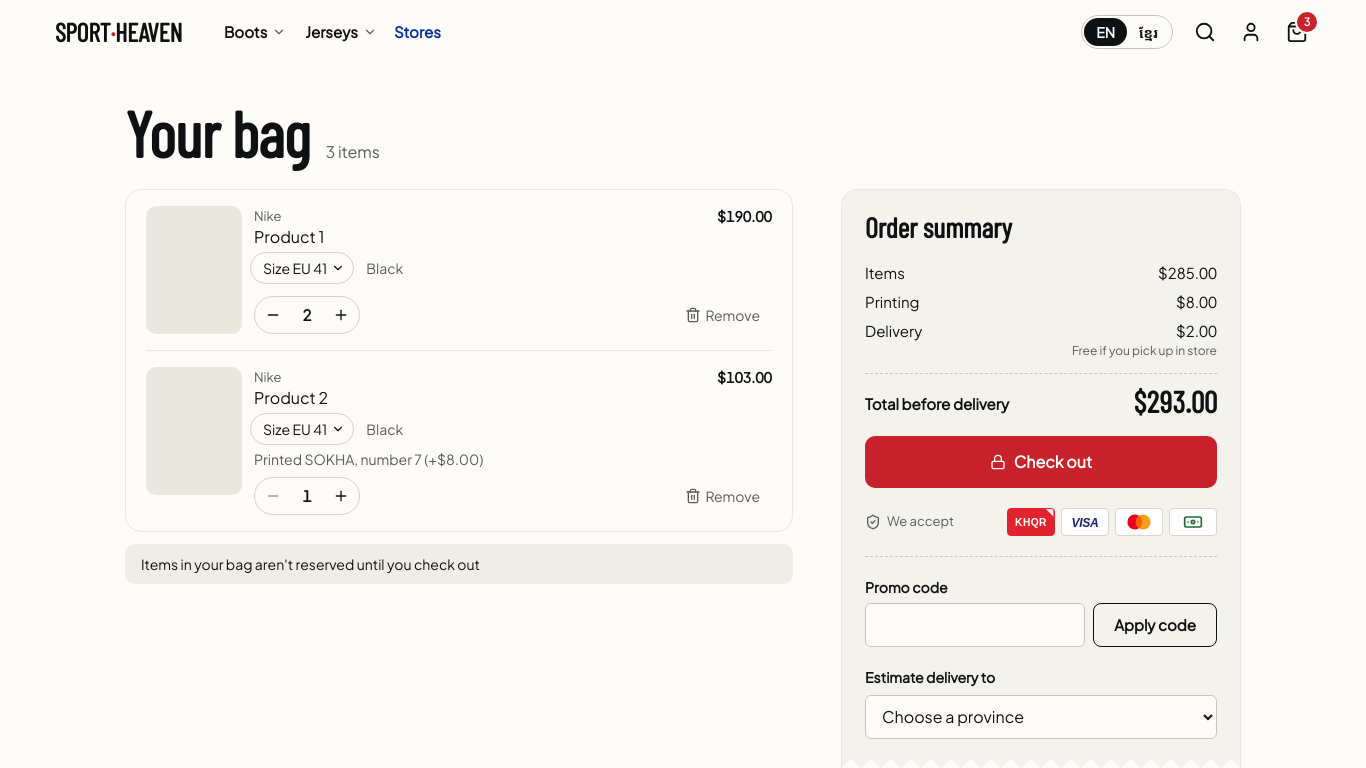
bag › shows the server's message for a bad promo code and the saving for a good one
This screenshot has width=1366, height=768.
Type "NOPE" into the field labelled "Promo code" at (975, 624), box [865,602,1085,646]
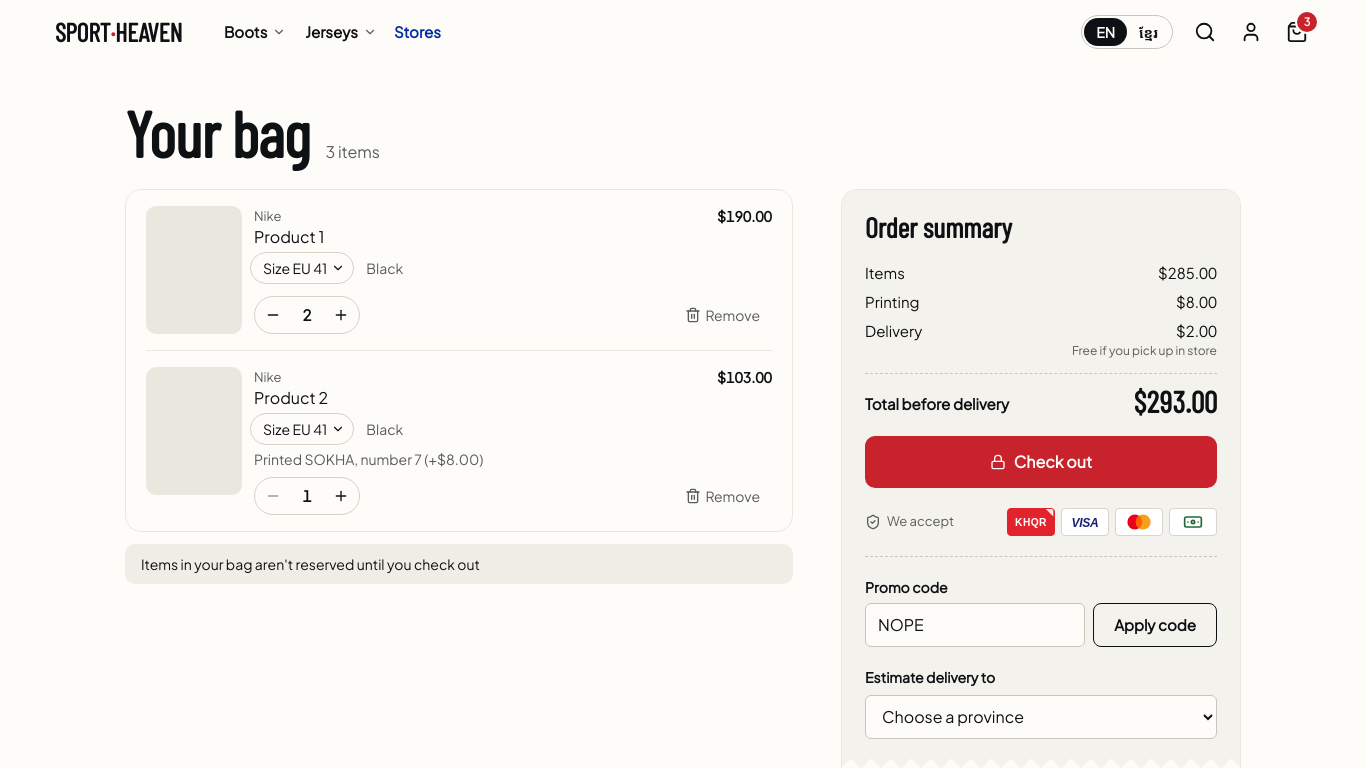
Click the button "Apply code" at (1155, 624), box [1093,602,1217,646]
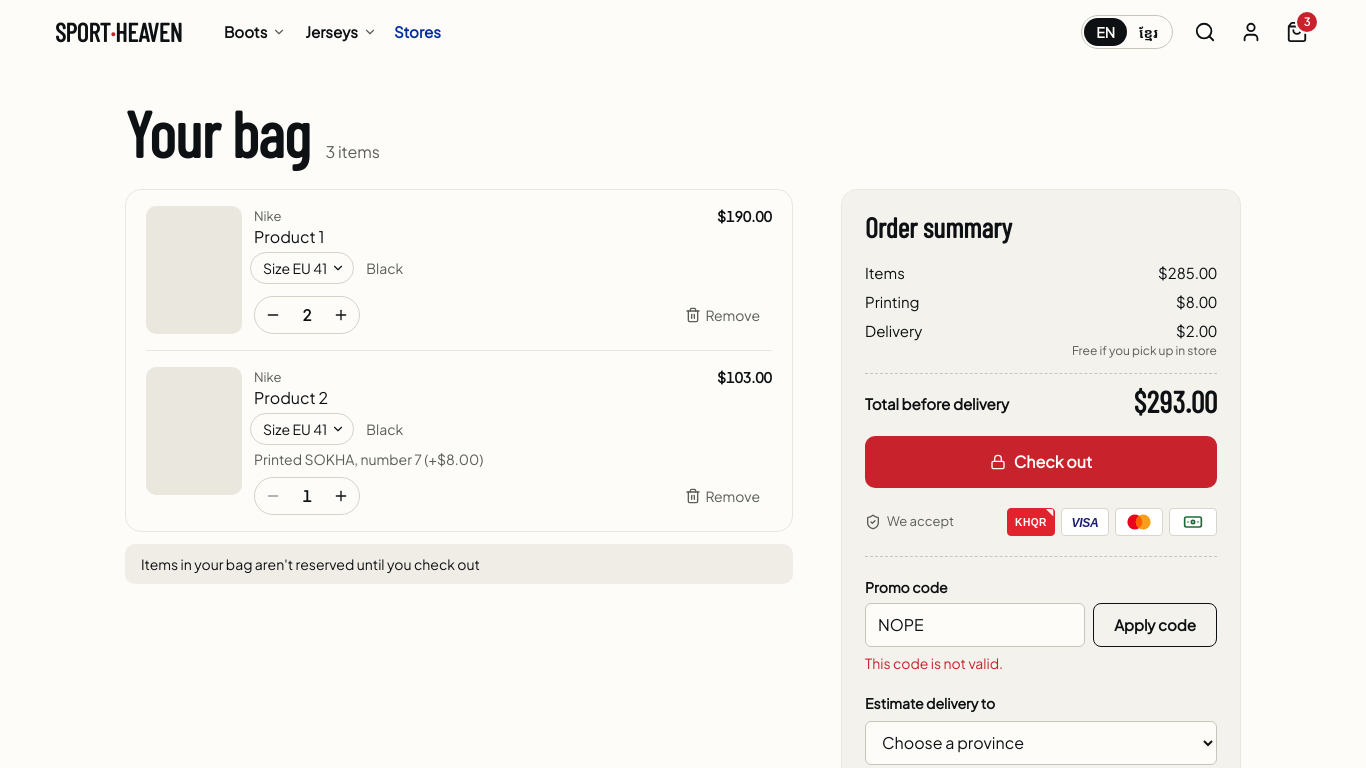
Now the text "This code is not valid." is shown, box [865,654,1003,672]
Replace the text in the field labelled "Promo code" with "SAVE10" at (975, 624), box [865,602,1085,646]
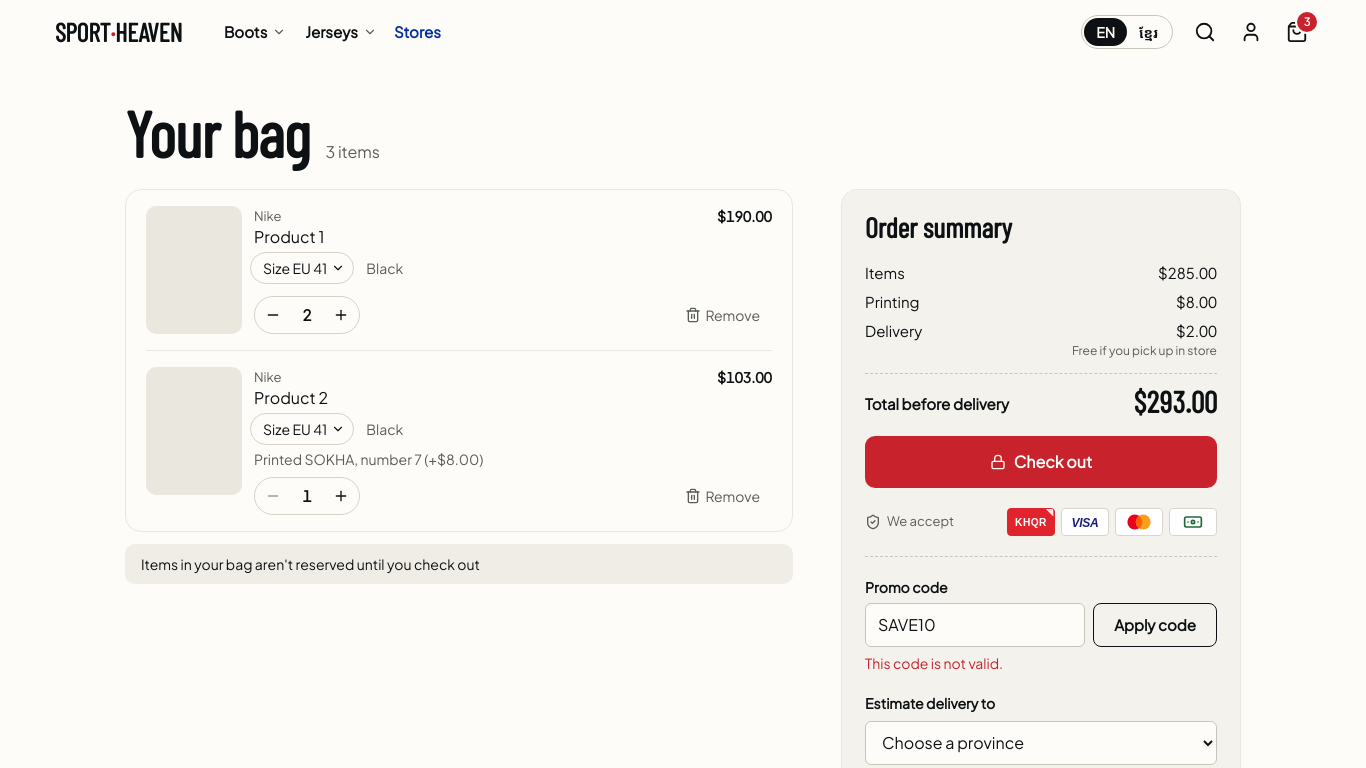
Click the button "Apply code" at (1155, 624), box [1093,602,1217,646]
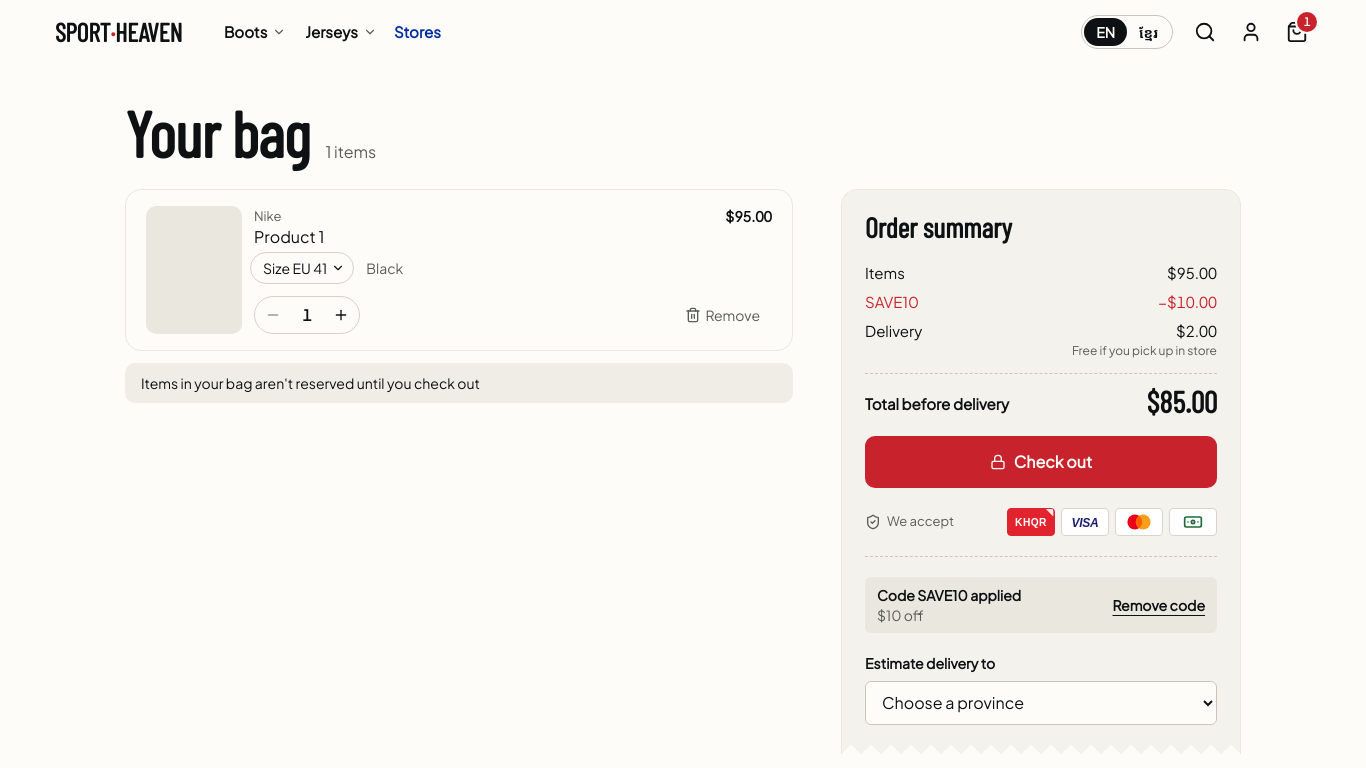
Now the text "$10 off" is shown, box [877,606,924,624]
Now the text "−$10.00" is shown, box [1158,290,1217,313]
